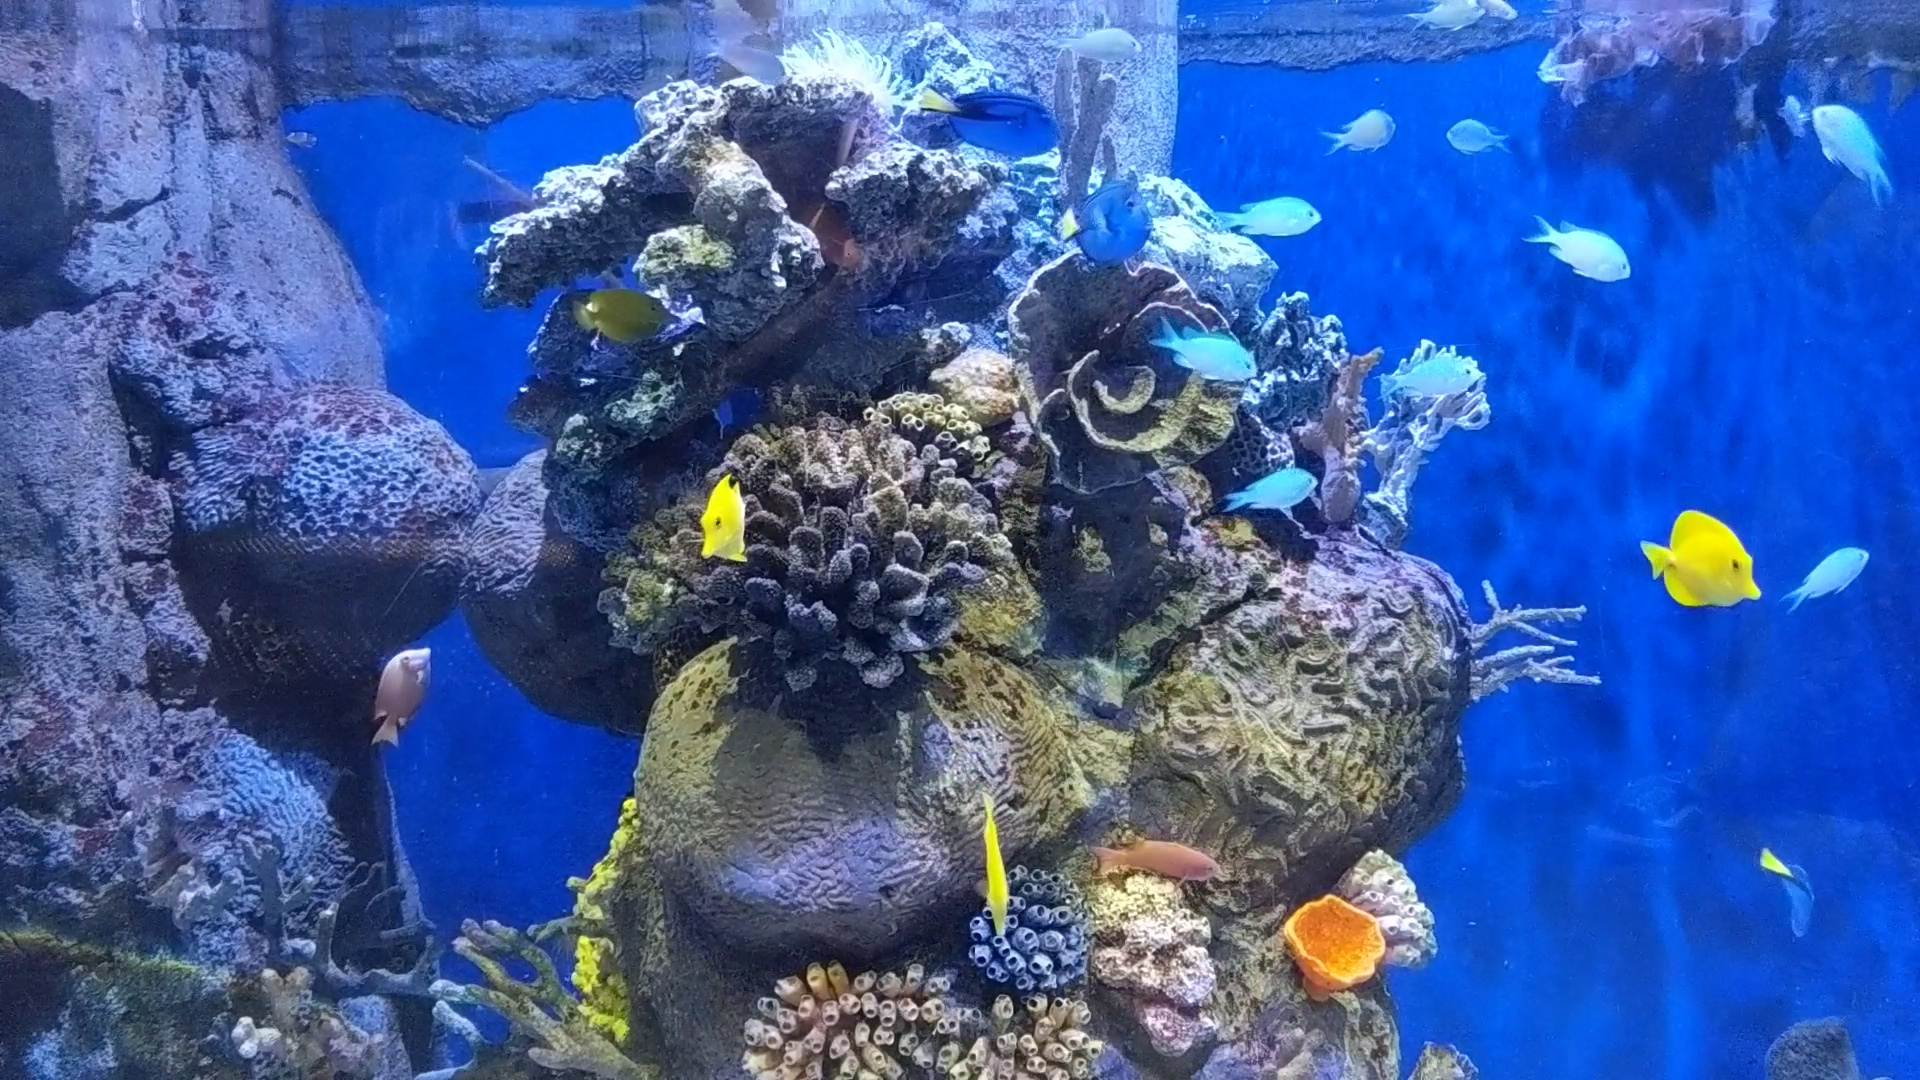blue tang surgeonfish: (911, 84, 1065, 157), (1056, 175, 1156, 265), (1756, 837, 1826, 944)
damselfish: (1516, 207, 1636, 285), (1811, 102, 1896, 207), (1149, 316, 1259, 382), (1772, 543, 1870, 616), (1381, 349, 1493, 402), (703, 28, 791, 90), (1211, 196, 1325, 241), (1220, 469, 1325, 517), (1317, 105, 1402, 158), (1056, 22, 1142, 65), (1403, 0, 1491, 36), (1447, 113, 1514, 160)
saddle butterfly fish: (1634, 509, 1768, 620), (568, 284, 684, 342), (978, 785, 1017, 934), (698, 473, 750, 566)
